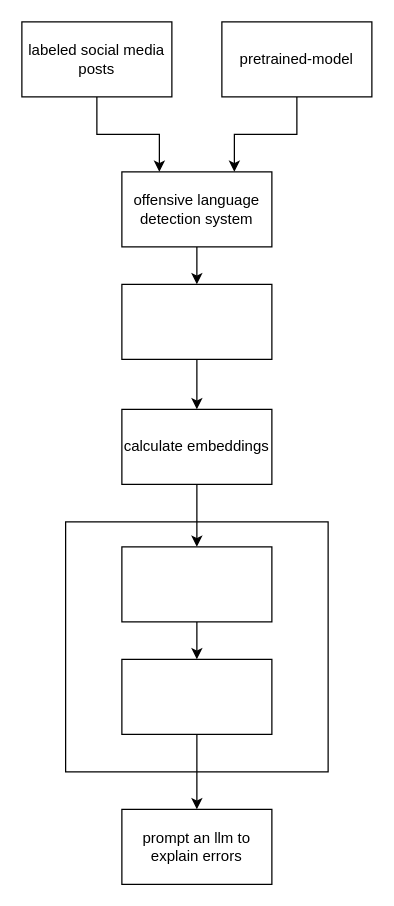
Some shapes in this 394 by 906 pixel diagram are drawn without their labels. Here are the shapes that lost their labels. From the top down, the centre of each, then its label:
point (196, 321): extract errors
point (196, 584): optimal number of clusters
point (196, 696): run kmeans
